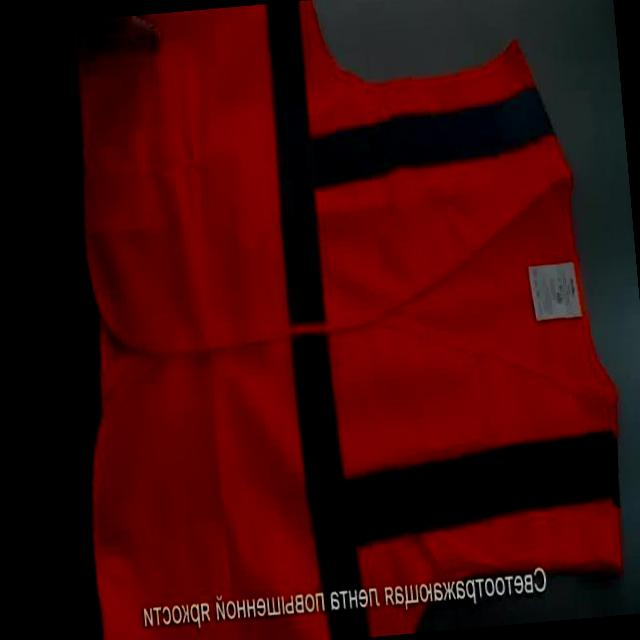vest: (45, 0, 639, 640)
